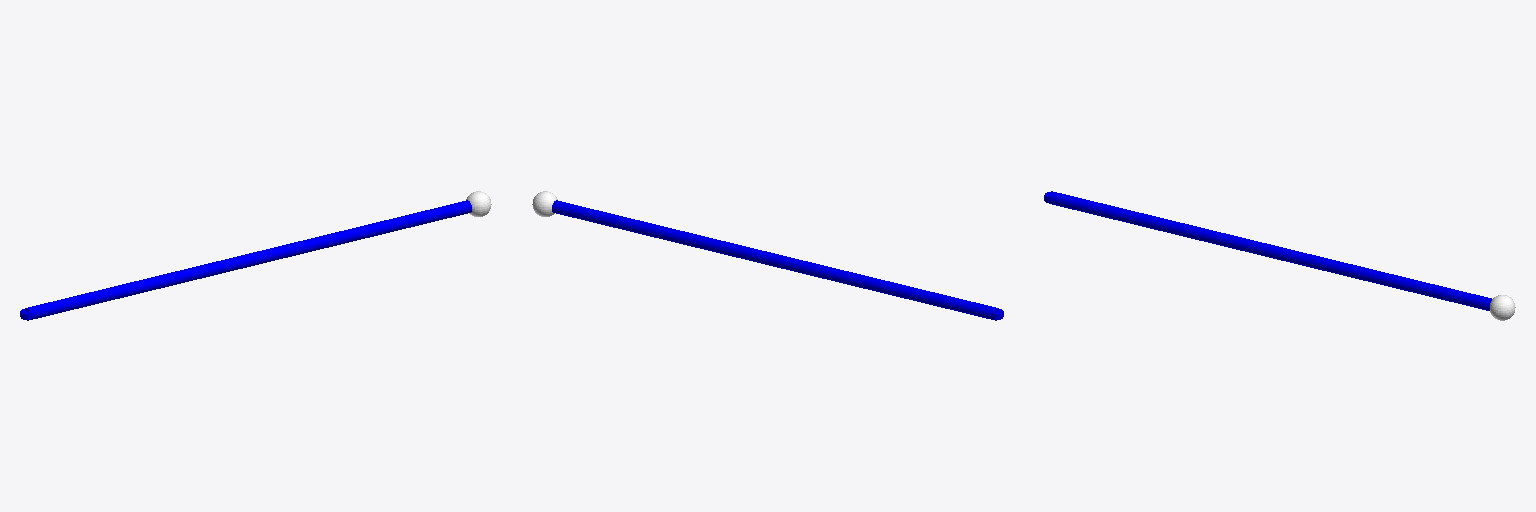
The robot description file, URDF, robot "planar_robot_4_link":
<?xml version="1.0"?>
<robot name="planar_robot_4_link">
  <link name="world"/>

  <joint name="base_joint" type="fixed">
    <origin rpy="0.0 0.0 0.0" xyz="0.0 0.0 0.0"/>
    <parent link="world"/>
    <child link="base_link"/>
  </joint>

  <link name="base_link">
<!--    <inertial>-->
<!--      <origin rpy="0 0 0" xyz="0.0 0.0 0.0"/>-->
<!--      <mass value="1"/>-->
<!--      <inertia ixx="0.05" ixy="0" ixz="0" iyy="0.018" iyz="0" izz="0.044"/>-->
<!--    </inertial>-->
    <visual>
      <geometry>
        <cylinder radius="0.01" length="0.01"/>
      </geometry>
      <material name="blue">
        <color rgba="0 0 1 1"/>
      </material>
    </visual>
    <collision>
      <geometry>
        <cylinder radius="0.01" length="0.01"/>
      </geometry>
    </collision>
  </link>

  <joint name="joint_1" type="revolute">
    <axis xyz="0 0 1"/>
    <parent link="base_link"/>
    <child link="link_1"/>
    <origin xyz="0.0 0.0 0.0" rpy="0.0 0.0 0.0"/>
    <limit effort="320.0" lower="-2.97" upper="2.97" velocity="2.35619449019"/>
  </joint>

  <link name="link_1">
<!--    <inertial>-->
<!--      <origin rpy="0 0 0" xyz="0.25 0.0 0.0"/>-->
<!--      <mass value="1"/>-->
<!--      <inertia ixx="0.0008" ixy="0" ixz="0" iyy="0.0151" iyz="0" izz="0.0151"/>-->
<!--    </inertial>-->
    <visual>
      <origin rpy="0 1.57079632679 0" xyz="0.1 0.0 0.0"/>
      <geometry>
        <cylinder radius="0.01" length="0.2"/>
      </geometry>
      <material name="blue">
        <color rgba="0 0 1 1"/>
      </material>
    </visual>
    <collision>
      <origin rpy="0 1.57079632679 0" xyz="0.1 0.0 0.0"/>
      <geometry>
        <cylinder radius="0.01" length="0.2"/>
      </geometry>
    </collision>
  </link>

  <joint name="joint_2" type="revolute">
    <axis xyz="0 0 1"/>
    <parent link="link_1"/>
    <child link="link_2"/>
    <origin xyz="0.2 0 0"/>
    <limit effort="320.0" lower="-2.36" upper="2.36" velocity="2.35619449019"/>
  </joint>

  <link name="link_2">
<!--    <inertial>-->
<!--      <origin rpy="0 0 0" xyz="0.2 0.0 0.0"/>-->
<!--      <mass value="1"/>-->
<!--      <inertia ixx="0.0008" ixy="0" ixz="0" iyy="0.0137" iyz="0" izz="0.0137"/>-->
<!--    </inertial>-->
    <visual>
      <origin rpy="0.0 1.57079632679 0" xyz="0.1 0.0 0.0"/>
      <geometry>
        <cylinder radius="0.01" length="0.2"/>
      </geometry>
      <material name="blue">
        <color rgba="0 0 1 1"/>
      </material>
    </visual>
    <collision>
      <origin rpy="0.0 1.57079632679 0" xyz="0.1 0.0 0.0"/>
      <geometry>
        <cylinder radius="0.01" length="0.2"/>
      </geometry>
    </collision>
  </link>


  <joint name="joint_3" type="revolute">
    <axis xyz="0 0 1"/>
    <parent link="link_2"/>
    <child link="link_3"/>
    <origin xyz="0.2 0 0"/>
    <limit effort="320.0" lower="-2.36" upper="2.36" velocity="2.35619449019"/>
  </joint>

  <link name="link_3">
<!--    <inertial>-->
<!--      <origin rpy="0 0 0" xyz="0.2 0.0 0.0"/>-->
<!--      <mass value="1"/>-->
<!--      <inertia ixx="0.0008" ixy="0" ixz="0" iyy="0.0137" iyz="0" izz="0.0137"/>-->
<!--    </inertial>-->
    <visual>
      <origin rpy="0.0 1.57079632679 0" xyz="0.1 0.0 0.0"/>
      <geometry>
        <cylinder radius="0.01" length="0.2"/>
      </geometry>
      <material name="blue">
        <color rgba="0 0 1 1"/>
      </material>
    </visual>
    <collision>
      <origin rpy="0.0 1.57079632679 0" xyz="0.1 0.0 0.0"/>
      <geometry>
        <cylinder radius="0.01" length="0.2"/>
      </geometry>
    </collision>
  </link>


  <joint name="joint_4" type="revolute">
    <axis xyz="0 0 1"/>
    <parent link="link_3"/>
    <child link="link_4"/>
    <origin xyz="0.2 0 0"/>
    <limit effort="320.0" lower="-2.36" upper="2.36" velocity="2.35619449019"/>
  </joint>

  <link name="link_4">
<!--    <inertial>-->
<!--      <origin rpy="0 0 0" xyz="0.2 0.0 0.0"/>-->
<!--      <mass value="1"/>-->
<!--      <inertia ixx="0.0008" ixy="0" ixz="0" iyy="0.0137" iyz="0" izz="0.0137"/>-->
<!--    </inertial>-->
    <visual>
      <origin rpy="0.0 1.57079632679 0" xyz="0.1 0.0 0.0"/>
      <geometry>
        <cylinder radius="0.01" length="0.2"/>
      </geometry>
      <material name="blue">
        <color rgba="0 0 1 1"/>
      </material>
    </visual>
    <collision>
      <origin rpy="0.0 1.57079632679 0" xyz="0.1 0.0 0.0"/>
      <geometry>
        <cylinder radius="0.01" length="0.2"/>
      </geometry>
    </collision>
  </link>



  <joint name="joint_ee" type="fixed">
    <axis xyz="1 0 0"/>
    <parent link="link_4"/>
    <child link="link_ee"/>
    <origin xyz="0.2 0 0.0"/>
  </joint>


  <link name="link_ee">
    <visual>
      <origin rpy="0.0 0 0" xyz="0.0 0.0 0.0"/>
      <geometry>
        <sphere radius="0.02"/>
      </geometry>
      <material name="white">
        <color rgba="1 1 1 1"/>
      </material>
    </visual>
    <collision>
      <origin rpy="0.0 0 0" xyz="0.0 0.0 0.0"/>
      <geometry>
        <sphere radius="0.02"/>
      </geometry>
    </collision>
  </link>

</robot>

--- What the picture shows (computed from the rendered views, not written in the file) ---
3 views of the same robot in one strip: view 1: azimuth 30°, elevation 25°; view 2: azimuth 150°, elevation 25°; view 3: azimuth 330°, elevation 25° (orthographic).
Robot: planar_robot_4_link — 7 links, 6 joints (4 revolute, 2 fixed); root link world; default pose: all joints at 0.
Links seen in each view (by area): view 1: link_1, link_2, link_3, link_4; view 2: link_1, link_2, link_3, link_4; view 3: link_2, link_3, link_1, link_4, link_ee.
Boxes of the visible links, box(x1,y1,x2,y2) form: link_1: box(24, 281, 142, 320); link_2: box(139, 253, 255, 292); link_3: box(253, 225, 368, 264); link_4: box(365, 200, 471, 237); link_1: box(881, 281, 999, 320); link_2: box(768, 253, 884, 292); link_3: box(655, 225, 770, 264); link_4: box(552, 200, 658, 237); link_2: box(1161, 219, 1276, 258); link_3: box(1274, 246, 1388, 285); link_1: box(1048, 191, 1163, 230); link_4: box(1386, 274, 1491, 310); link_ee: box(1490, 295, 1515, 320).
Bounding box of the posed robot: 0.83 × 0.04 × 0.04 m (x, y, z).
Geometry: primitives only (box / cylinder / sphere), no mesh files.
